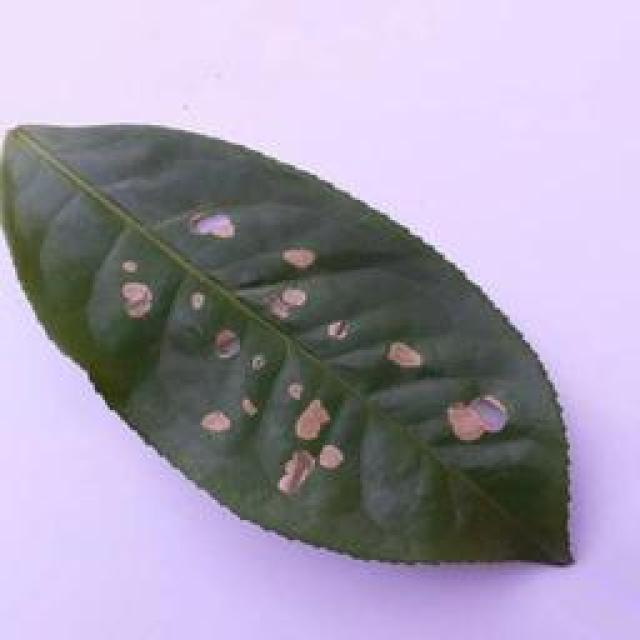Gray Blight: (0, 120, 590, 574)
